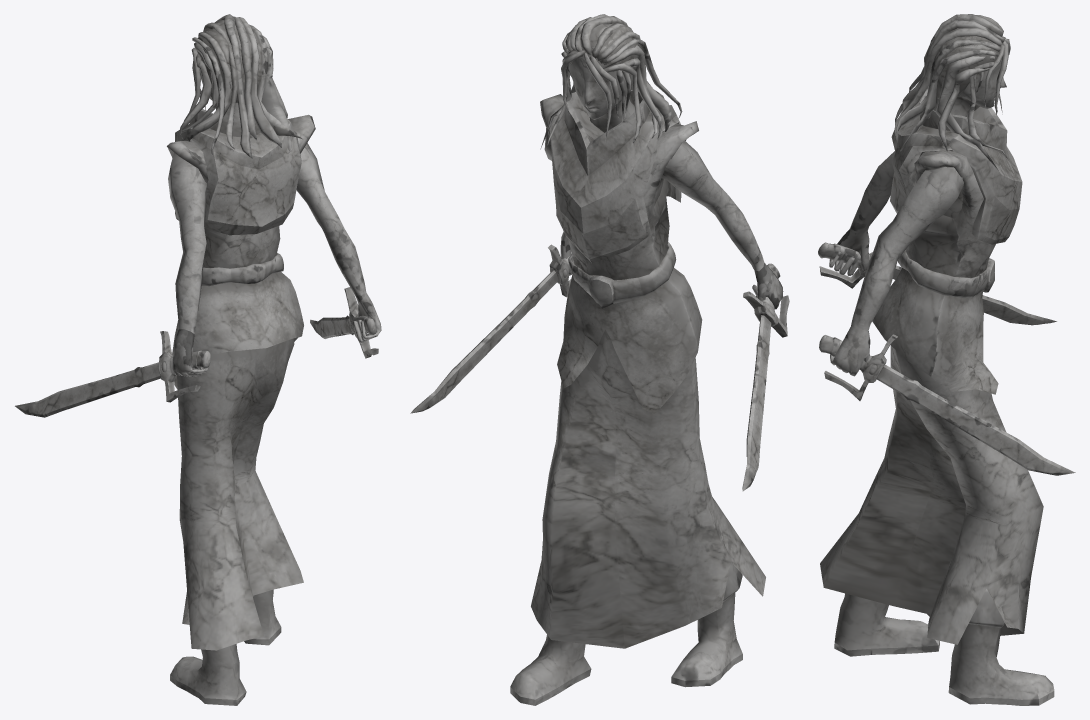
Rendered from statue_hero_nightblade.fbx.
3 views of the same model, side by side, from view 1: azimuth 30°, elevation 25°; view 2: azimuth 150°, elevation 25°; view 3: azimuth 270°, elevation 25° (orthographic). The views are drawn at different scales.
Parts seen in each view (by area): view 1: statue_hero_nightblade; view 2: statue_hero_nightblade; view 3: statue_hero_nightblade.
Boxes of the visible parts, <box> form: statue_hero_nightblade: <box>15,14,381,705</box>; statue_hero_nightblade: <box>410,14,789,705</box>; statue_hero_nightblade: <box>818,14,1075,705</box>.
Size of the model in its own units: 101 by 198 by 69.9.
